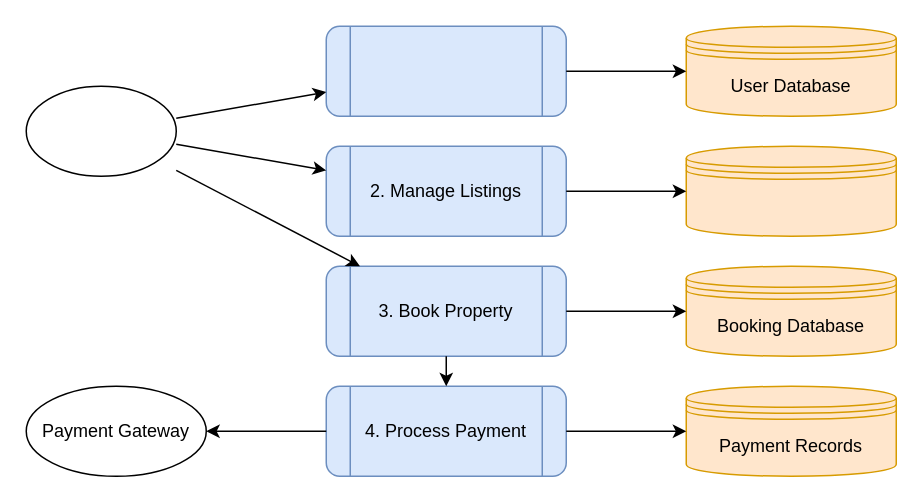
Some shapes in this 923 by 503 pixel diagram are drawn without their labels. The shapes that lost their labels are listed below. From the top down, each one's centre as x and y in pixels, then its label:
At [445,70]: "1. Register / Login".
At [100,130]: "User".
At [790,190]: "Property Database".
